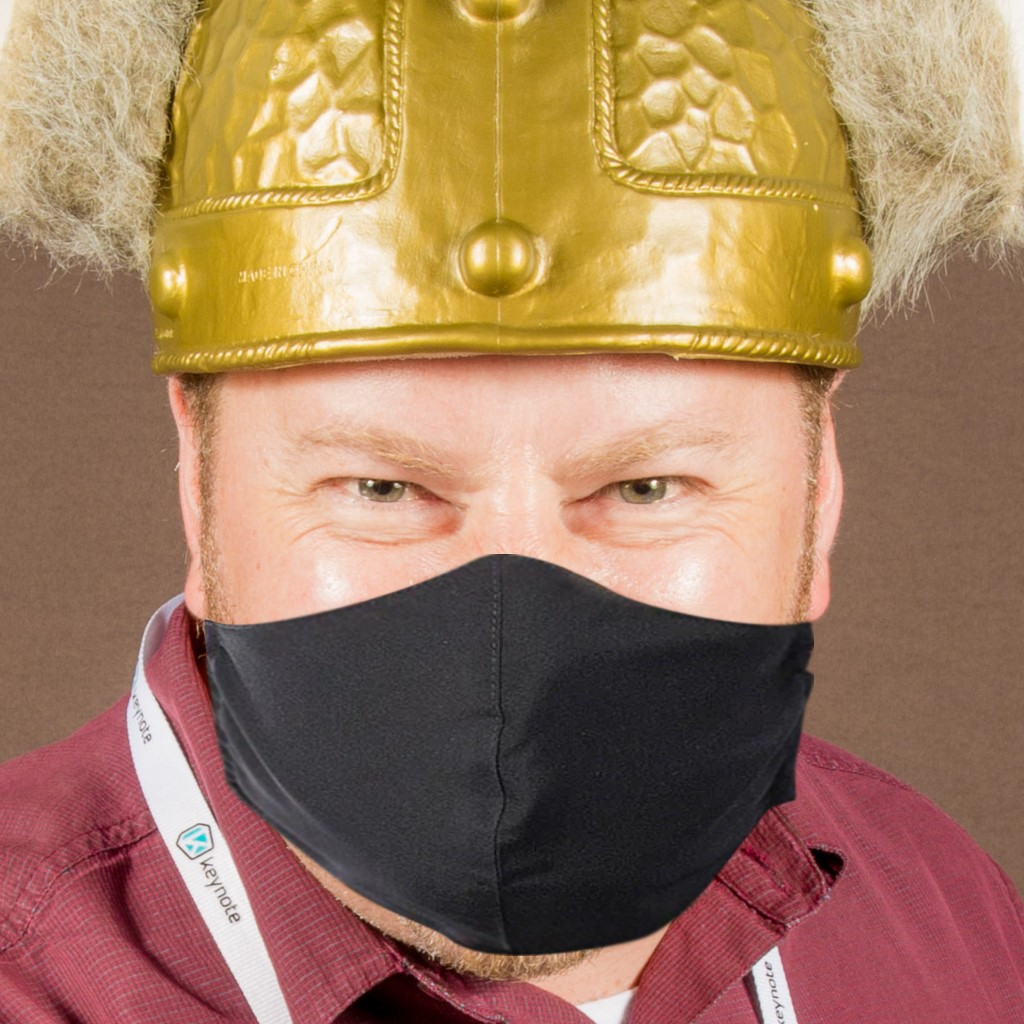con_mascara: (160, 256, 822, 970)
